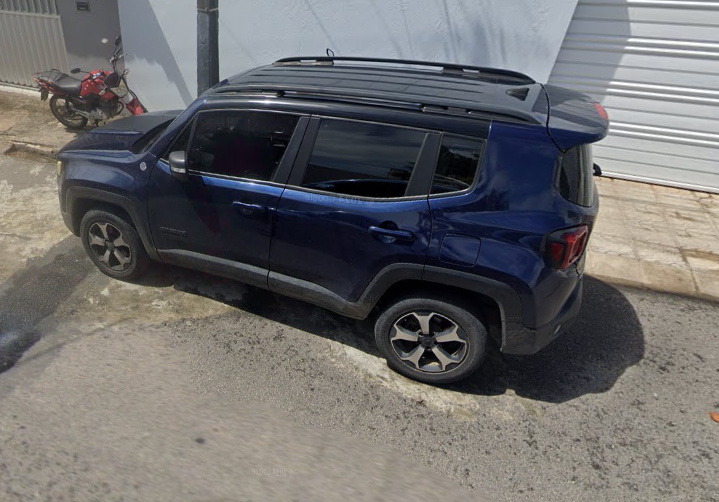car: (51, 47, 611, 390)
